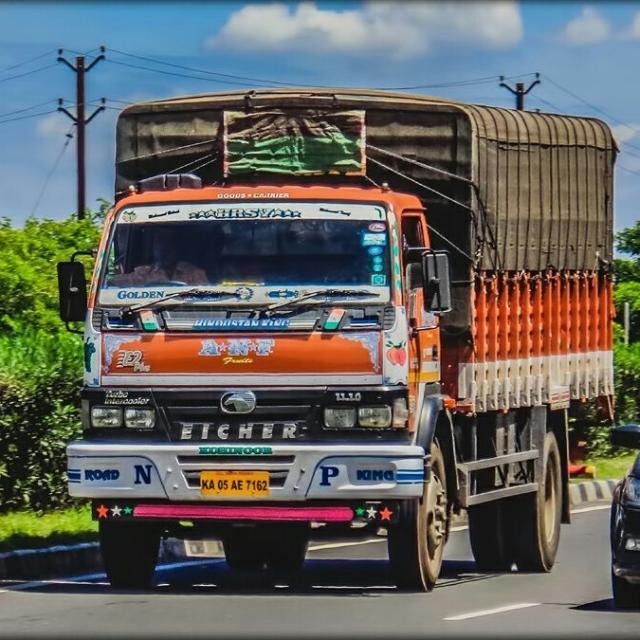Truck: (50, 86, 621, 594)
